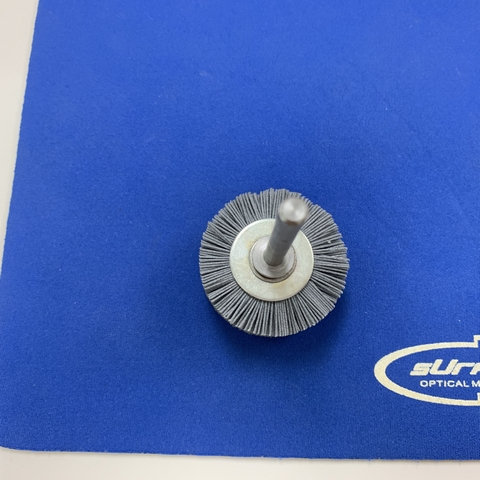Wheel Brush: (185, 166, 382, 366), (175, 187, 360, 338), (197, 183, 355, 348), (209, 161, 337, 341)
